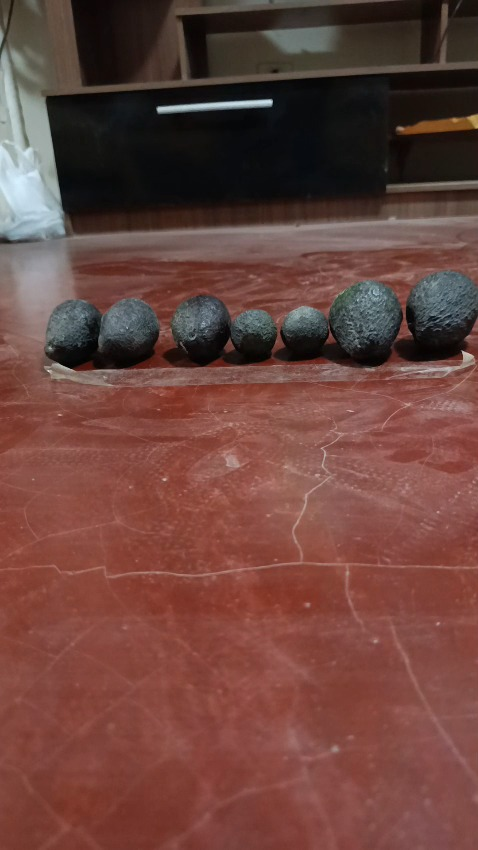Primera: (329, 279, 403, 363), (405, 269, 477, 353)
Segunda: (97, 297, 160, 366), (170, 293, 231, 362), (44, 299, 102, 367)
Tercera: (280, 306, 328, 357), (230, 309, 276, 359)
